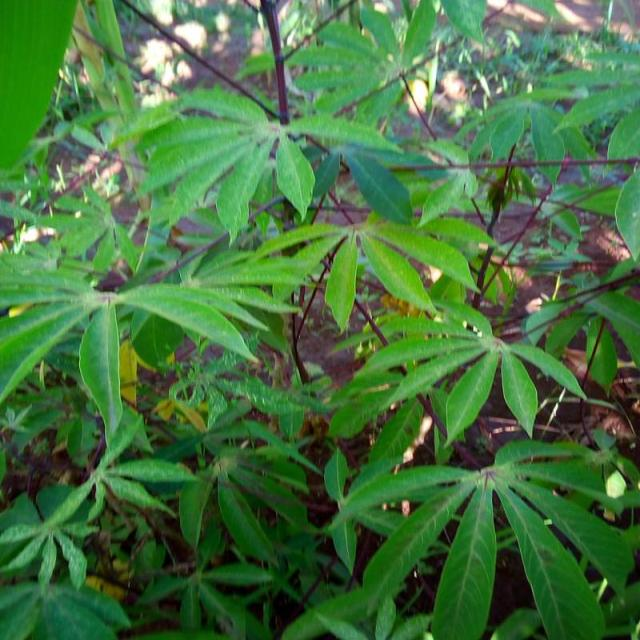cassava leaf: (78, 299, 123, 446)
